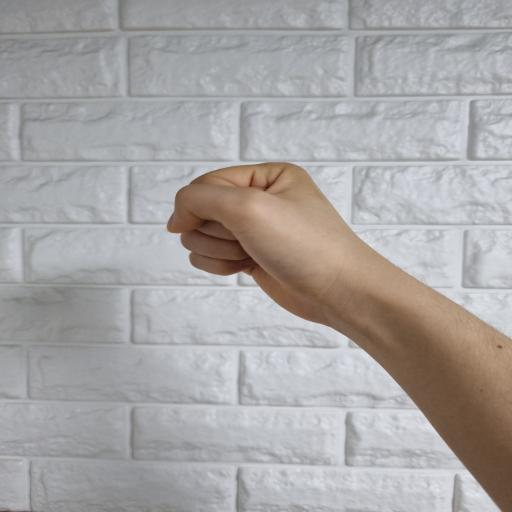Rock: (167, 161, 380, 333)
